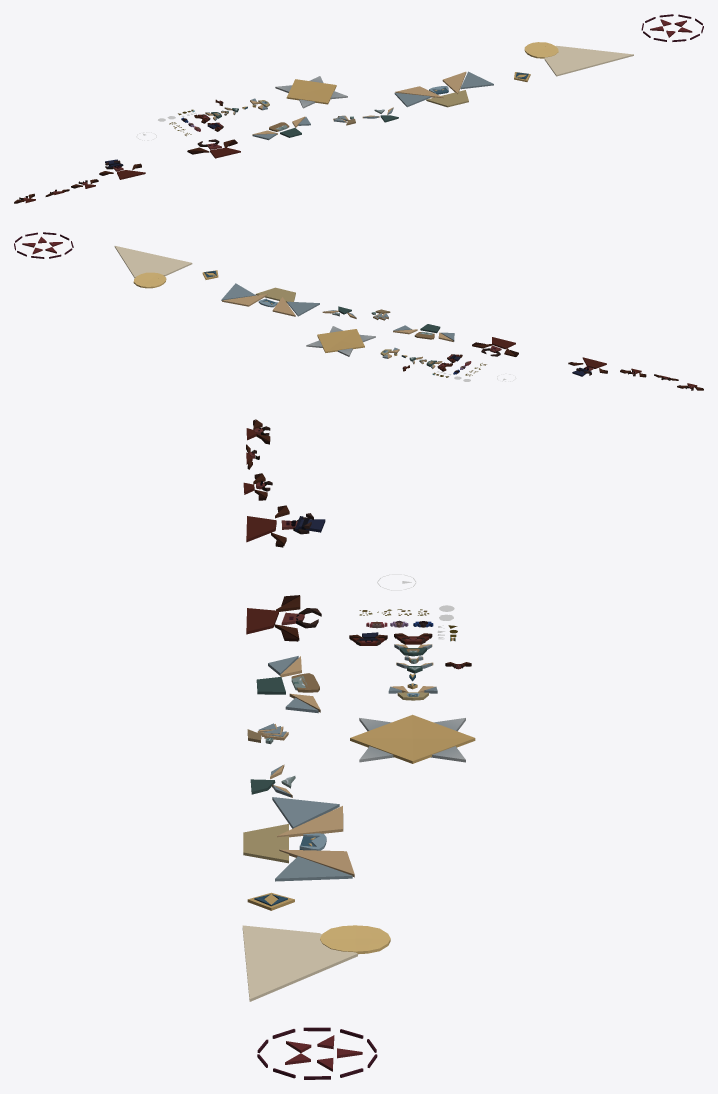
File: ground-meshes.fbx
3 renders of one model, top to bottom at view 1: azimuth 30°, elevation 25°; view 2: azimuth 150°, elevation 25°; view 3: azimuth 270°, elevation 25°, orthographic. The views are drawn at different scales.
Parts seen in each view (by area): view 1: Sunlight, Guardian Angel Face, Divine Detonator Explosion, Holy Hulk Face, DevilFace, PentagramFace, Devil In Persons Clothin Face; view 2: Sunlight, Guardian Angel Face, Divine Detonator Explosion, Holy Hulk Face, DevilFace, PentagramFace, Devil In Persons Clothin Face; view 3: Sunlight, Guardian Angel Face, Divine Detonator Explosion, Holy Hulk Face, PentagramFace, DevilFace, Devil In Persons Clothin Face.
Boxes of the visible parts, bbox=[...] form: Sunlight: bbox=[524, 42, 633, 76]; Guardian Angel Face: bbox=[394, 71, 493, 107]; Divine Detonator Explosion: bbox=[275, 76, 347, 108]; Holy Hulk Face: bbox=[252, 116, 310, 140]; DevilFace: bbox=[187, 139, 240, 158]; PentagramFace: bbox=[641, 14, 703, 41]; Devil In Persons Clothin Face: bbox=[99, 159, 145, 179]; Sunlight: bbox=[114, 246, 192, 288]; Guardian Angel Face: bbox=[221, 283, 319, 316]; Divine Detonator Explosion: bbox=[306, 326, 375, 356]; Holy Hulk Face: bbox=[393, 324, 454, 341]; DevilFace: bbox=[472, 337, 518, 356]; PentagramFace: bbox=[14, 232, 73, 258]; Devil In Persons Clothin Face: bbox=[568, 357, 607, 376]; Sunlight: bbox=[242, 925, 390, 1001]; Guardian Angel Face: bbox=[243, 797, 354, 881]; Divine Detonator Explosion: bbox=[350, 714, 475, 763]; Holy Hulk Face: bbox=[256, 656, 320, 713]; PentagramFace: bbox=[257, 1027, 377, 1079]; DevilFace: bbox=[246, 595, 321, 641]; Devil In Persons Clothin Face: bbox=[246, 505, 325, 547].
Bounding box in the file's own units: 10143 × 165 × 1525.
